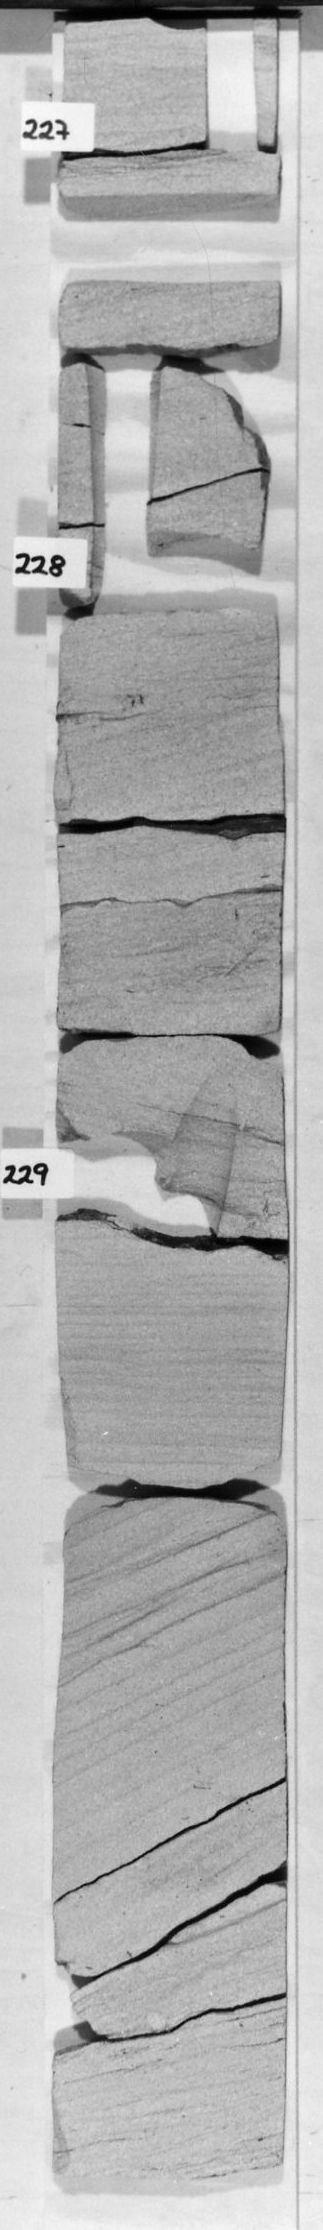hplug: (63, 191, 277, 292), (60, 1114, 171, 1225), (157, 528, 258, 619)
vplug: (80, 358, 166, 532), (166, 1071, 242, 1237), (196, 16, 270, 156)
